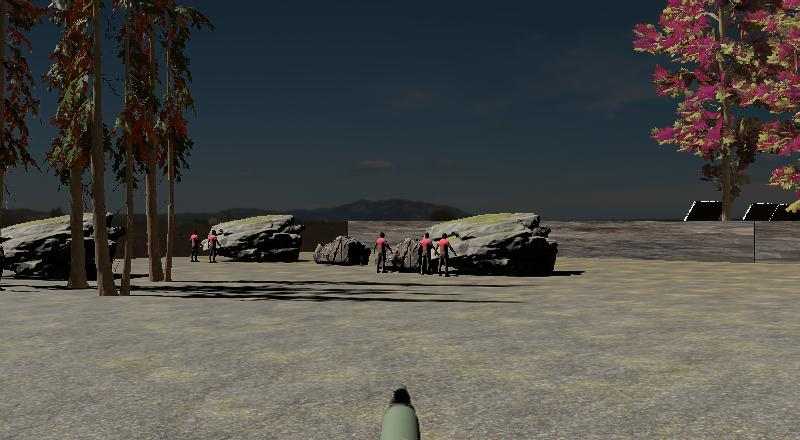Human: (414, 231, 437, 276), (435, 232, 456, 277), (372, 231, 393, 274), (187, 227, 202, 264), (206, 229, 221, 264), (0, 237, 6, 291)
